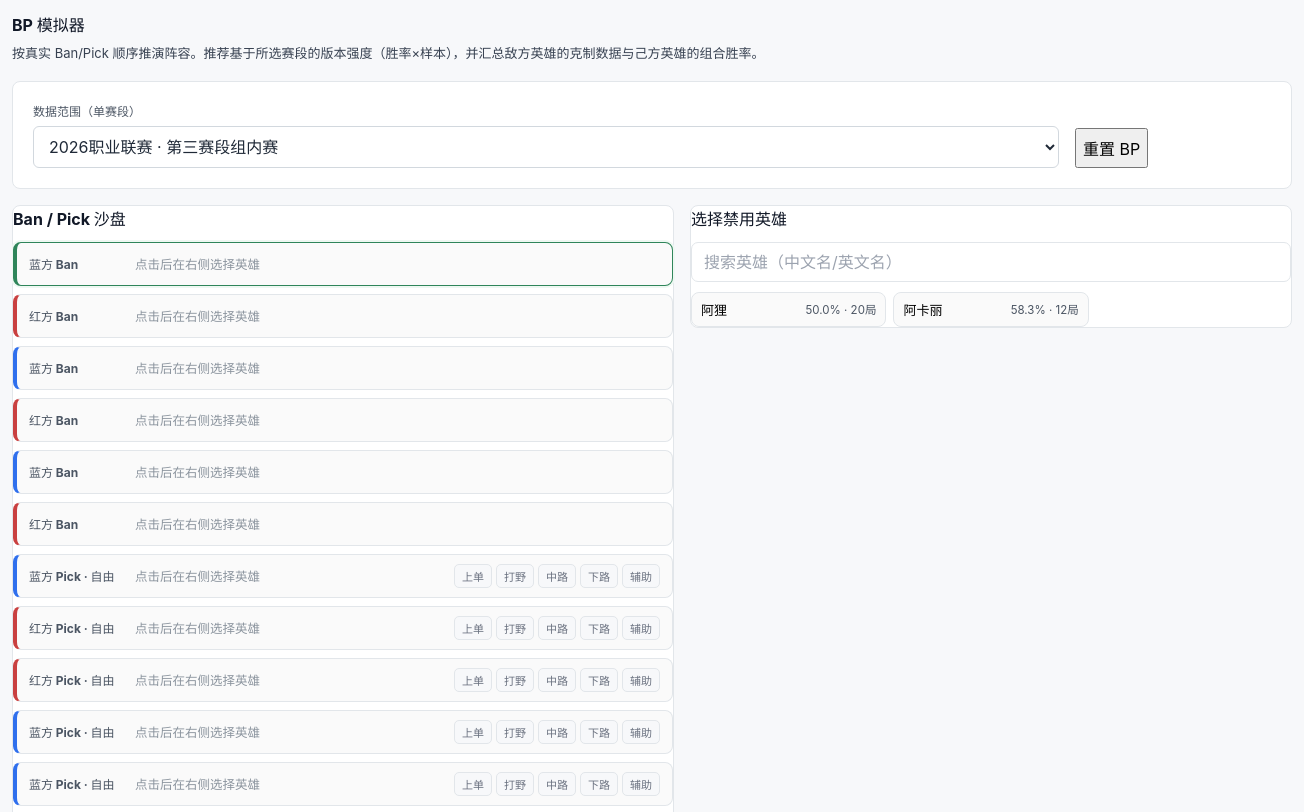
Test: DraftPage › 按顺序禁用英雄并推进到下一个槽位
Click the button with class "candidate-chip" showing "阿狸 50.0% · 20局" at x=789, y=309, box [691,292,886,327]
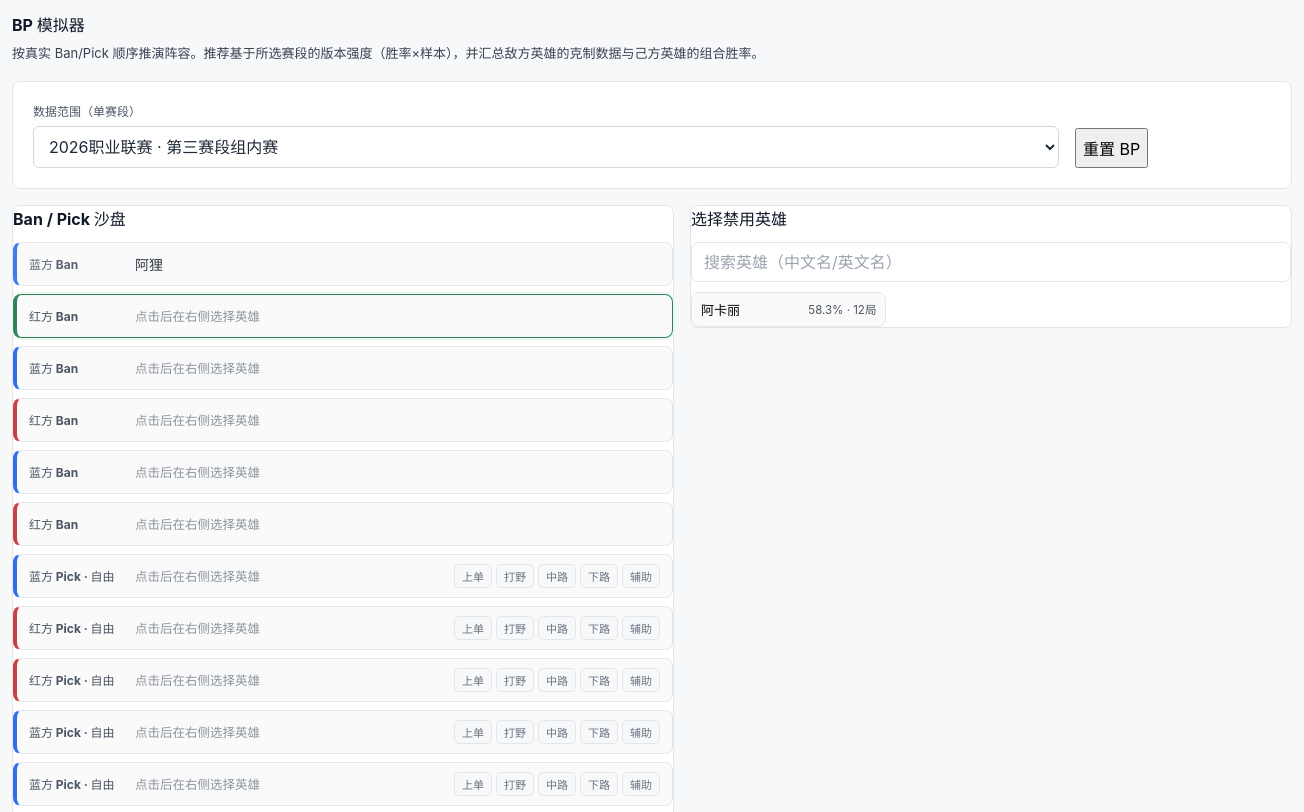
Check: the number of elements with class "filled" is 1, box [13,242,673,286]
Check: the element with class "filled" shows "阿狸", box [135,256,163,273]
